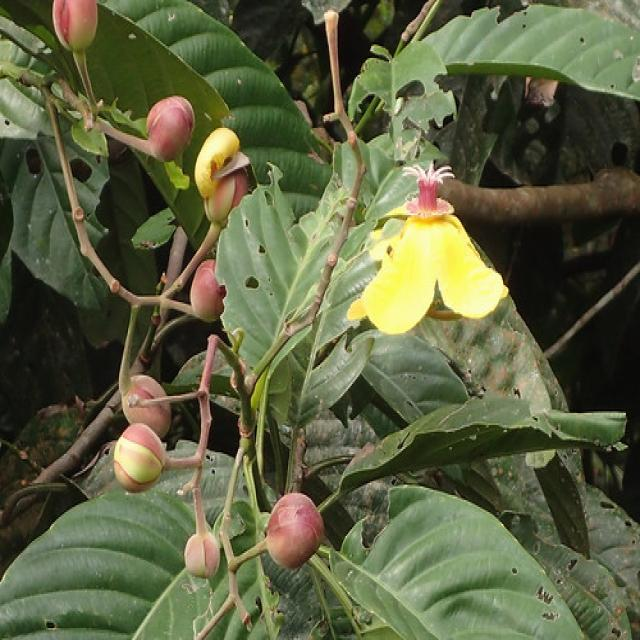Simpoh-Lak: (334, 92, 521, 379), (262, 476, 322, 582), (192, 128, 255, 222), (109, 365, 182, 434), (142, 85, 201, 162), (188, 252, 242, 318), (113, 422, 165, 488), (46, 0, 99, 55), (176, 524, 228, 579)
